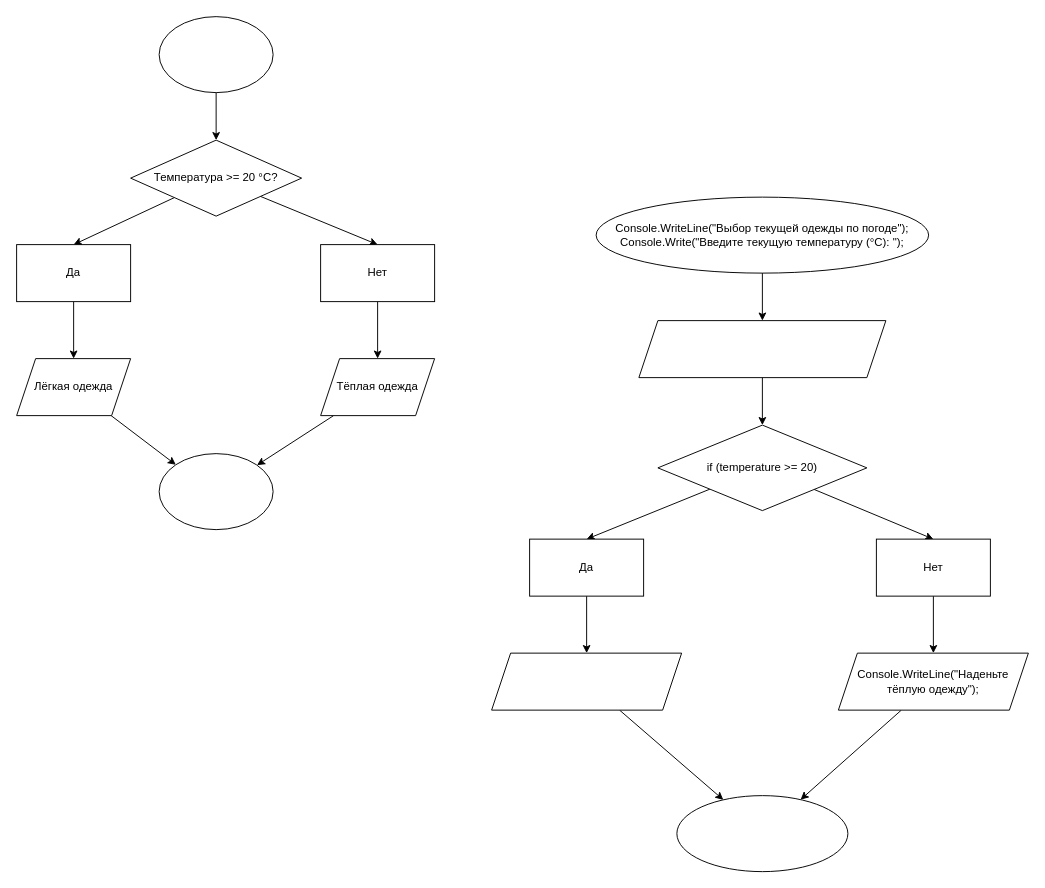
Some shapes in this 1045 by 888 pixel diagram are drawn without their labels. Here are the shapes that lost their labels. From the top down, the centre of each, then its label:
pixel 215 54: Начало
pixel 762 349: int temperature = Convert.ToInt32(Console.ReadLine());
pixel 215 491: Конец
pixel 586 681: Console.WriteLine("Наденьте лёгкую одежду");
pixel 762 833: Console.WriteLine("Хорошего дня!);
